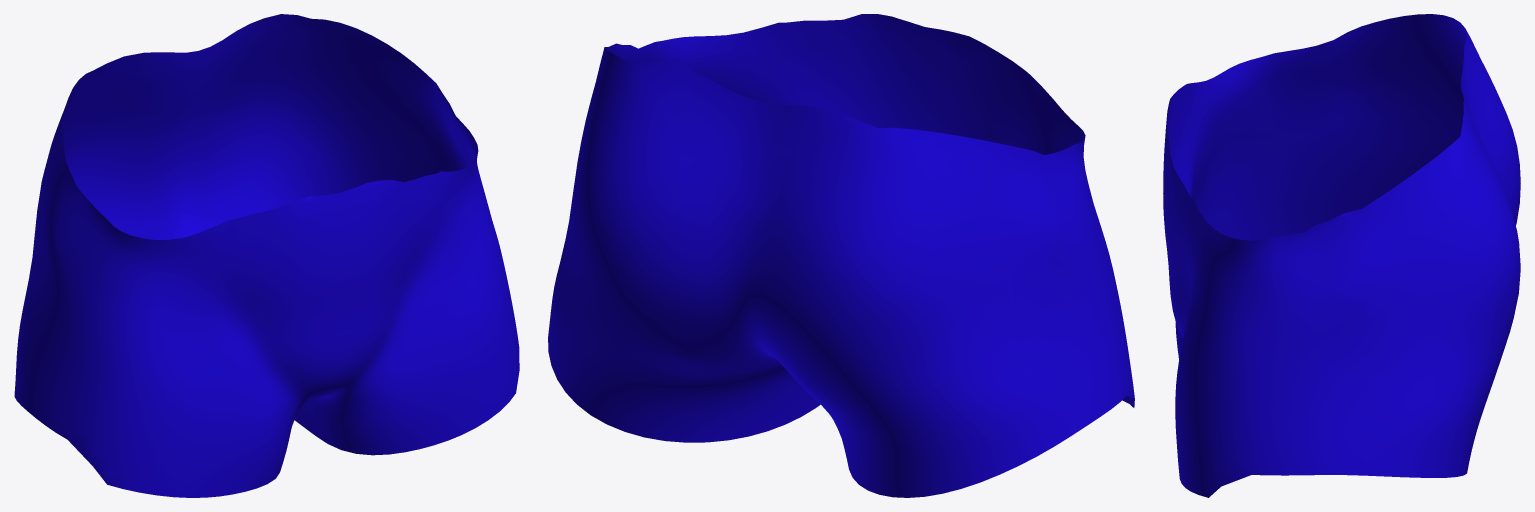
File: pants.glb
3 renders of one model, left to right at view 1: azimuth 30°, elevation 25°; view 2: azimuth 150°, elevation 25°; view 3: azimuth 270°, elevation 25°, orthographic. The views are drawn at different scales.
Parts seen in each view (by area): view 1: FinalBaseMesh.001; view 2: FinalBaseMesh.001; view 3: FinalBaseMesh.001.
Boxes of the visible parts, left/top/right/bottom form: FinalBaseMesh.001: left=14, top=14, right=519, bottom=497; FinalBaseMesh.001: left=548, top=14, right=1134, bottom=497; FinalBaseMesh.001: left=1163, top=14, right=1520, bottom=497.
Bounding box in the file's own units: 0.3811 × 0.272 × 0.2493.
